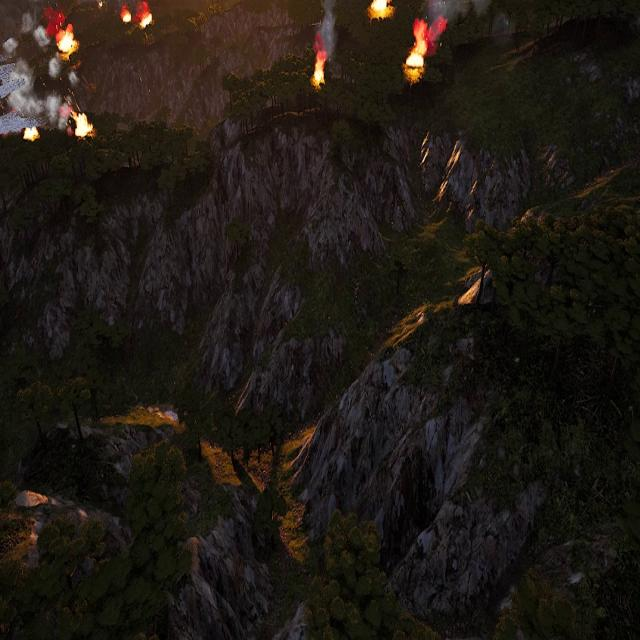fire: (405, 13, 447, 71), (57, 25, 77, 57), (73, 108, 92, 137), (313, 52, 327, 89), (370, 0, 392, 17), (140, 12, 152, 30), (125, 10, 132, 25)
smoke: (0, 1, 72, 127), (412, 0, 483, 49), (314, 0, 338, 58)
